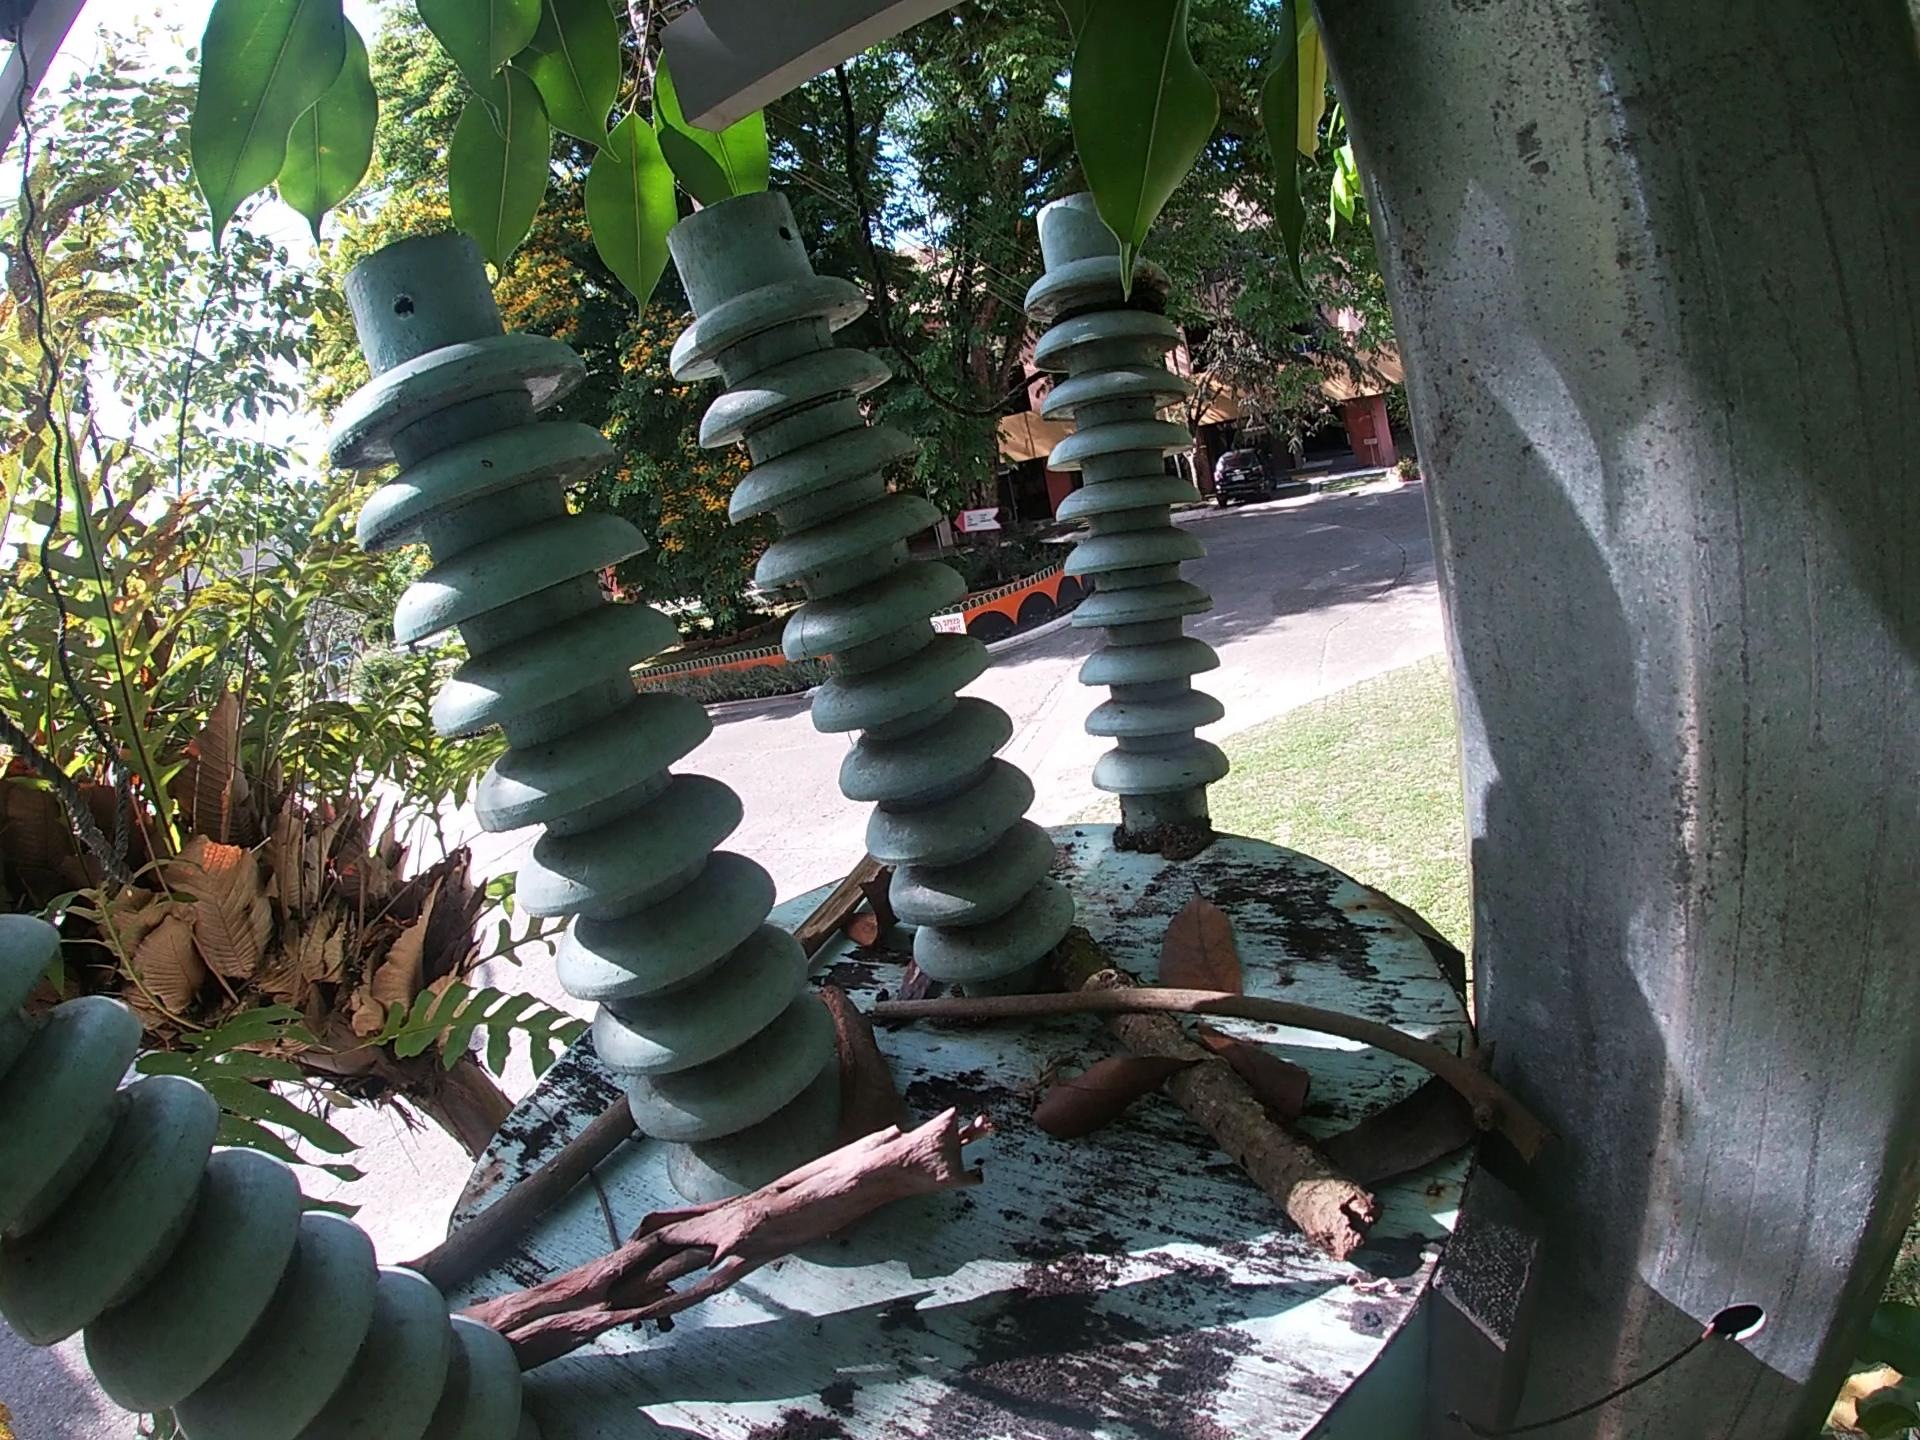leaf: (1312, 1036, 1504, 1192), (1025, 1048, 1208, 1148), (1197, 1013, 1320, 1125), (1155, 880, 1250, 995)
mahogany fruit: (813, 976, 906, 1141), (841, 862, 906, 950)
tree branch: (449, 1092, 1001, 1361), (860, 979, 1568, 1171), (1049, 921, 1388, 1265), (386, 1098, 646, 1292), (792, 852, 883, 962)
